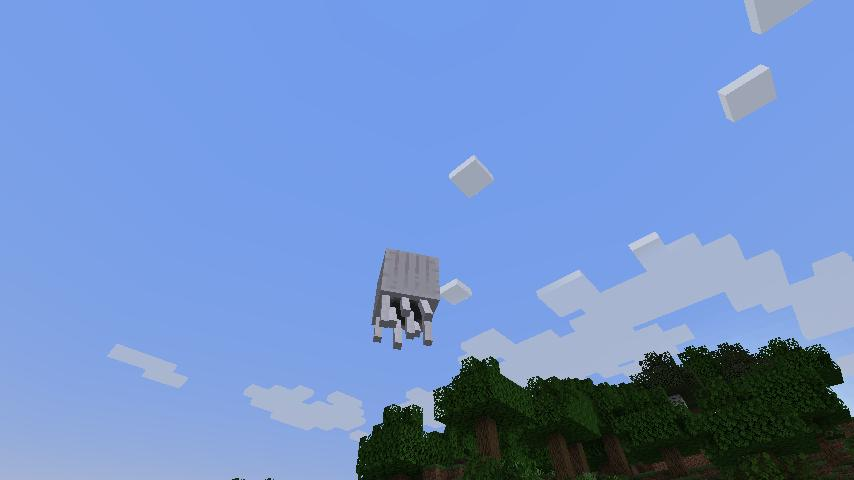ghast: (371, 246, 441, 354)
